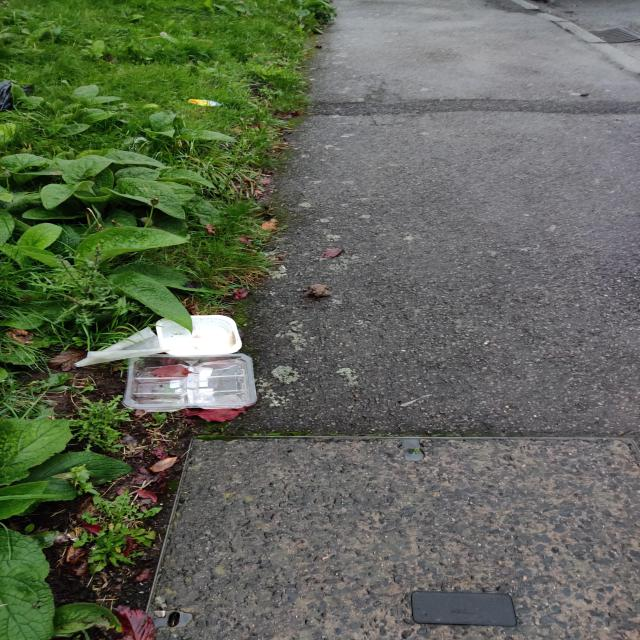litter: (97, 299, 281, 431)
